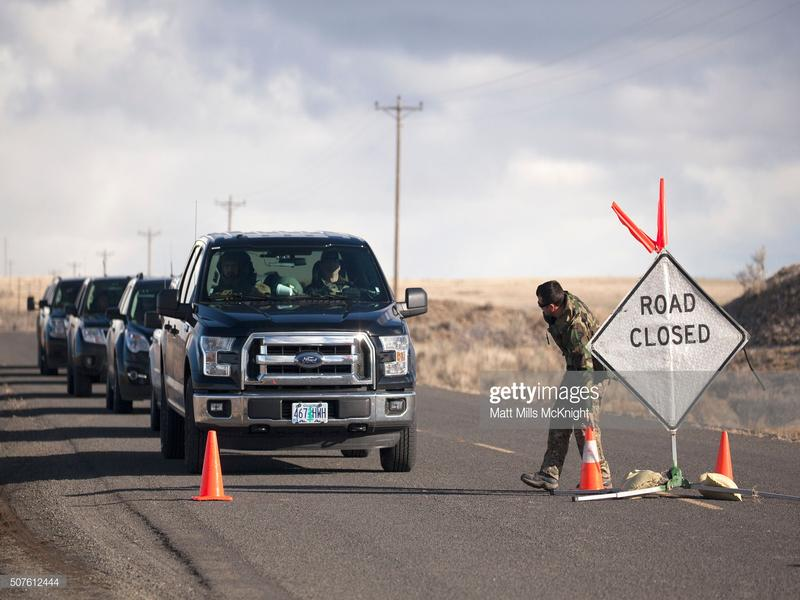Cone1: (192, 430, 234, 500)
